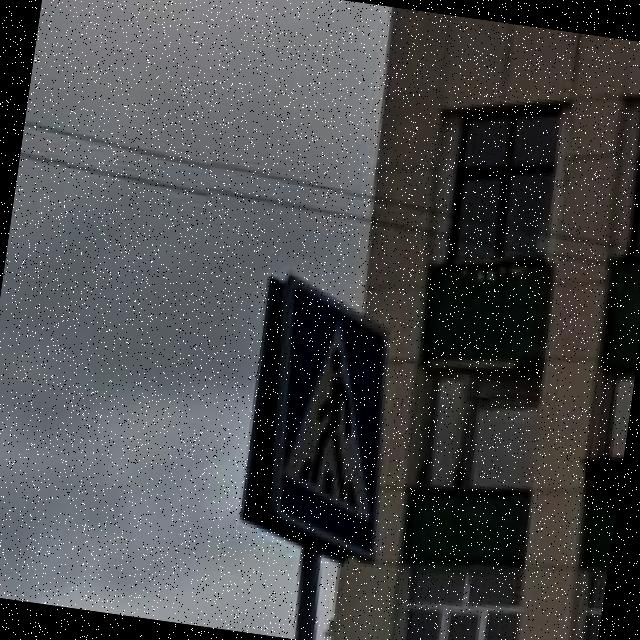Przejscie dla pieszych: (244, 276, 416, 566)
